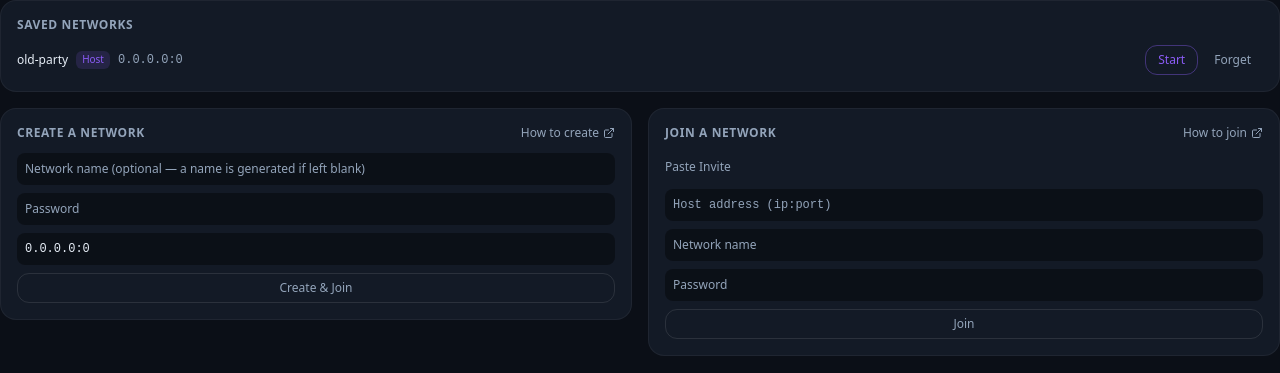
Test case: VirtualNetworkPanel — saved networks › forgets a saved network on click
Step 1. Click the button with test id "vn-saved-forget-btn" → (1233,60), box top-left (1202, 46), bottom-right (1263, 74)
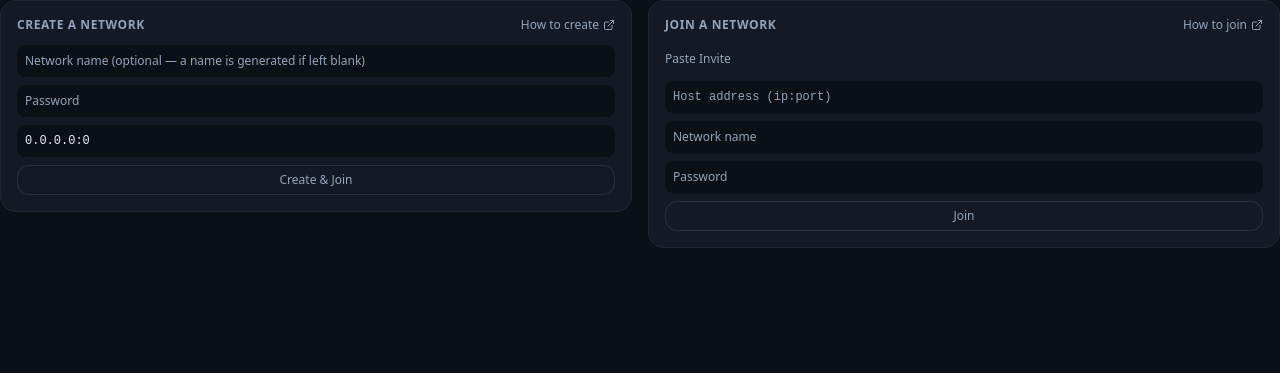
Expected: the element with test id "vn-saved-list" is gone
